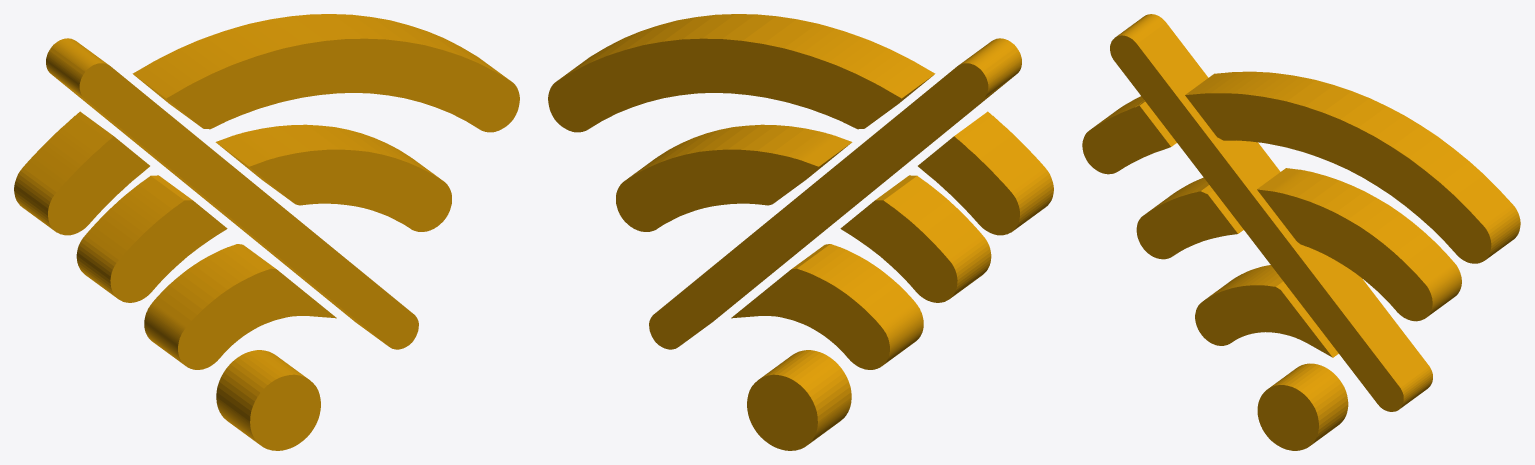
3 views of the same model, side by side, from view 1: azimuth 30°, elevation 25°; view 2: azimuth 150°, elevation 25°; view 3: azimuth 330°, elevation 25° (orthographic). The views are drawn at different scales.
Visible parts, largest first — view 1: Curve.002; view 2: Curve.002; view 3: Curve.002.
Boxes of the visible parts, x1,y1,x2,y2 form: Curve.002: (14, 14, 519, 450); Curve.002: (548, 14, 1053, 450); Curve.002: (1082, 14, 1520, 450).
Bounding box in the file's own units: 12.64 × 11.06 × 1.57.
